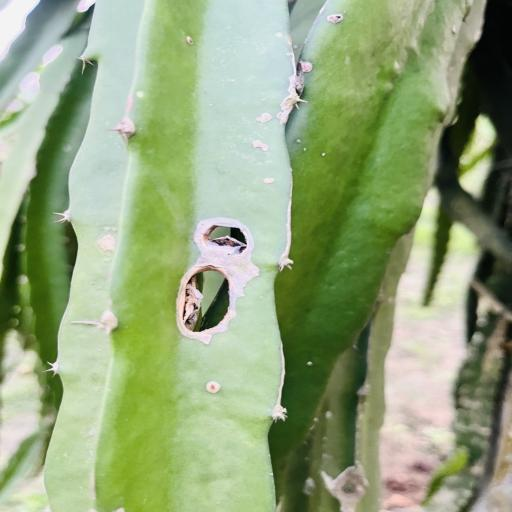stemcanker: (290, 131, 344, 169), (189, 368, 231, 404), (127, 76, 159, 116), (245, 106, 281, 135), (322, 11, 368, 33), (268, 25, 294, 60), (228, 68, 256, 96), (255, 172, 291, 193), (198, 376, 229, 398), (174, 28, 202, 52), (200, 376, 228, 398), (251, 136, 277, 158), (203, 98, 231, 117), (181, 34, 210, 52), (300, 355, 332, 371), (202, 378, 224, 399), (80, 422, 100, 445), (202, 380, 226, 399), (300, 355, 322, 374), (295, 136, 314, 158), (255, 174, 280, 189), (257, 171, 280, 187), (203, 381, 224, 398), (259, 174, 278, 192), (298, 57, 316, 74), (132, 89, 152, 103), (262, 174, 280, 189), (252, 138, 268, 154), (295, 135, 309, 153), (260, 89, 272, 106), (132, 88, 149, 100), (264, 175, 278, 189), (300, 357, 316, 369), (317, 150, 334, 160), (318, 152, 332, 164), (302, 358, 315, 370), (317, 149, 331, 160), (315, 151, 331, 160), (304, 356, 314, 370), (136, 87, 146, 101), (227, 76, 238, 88), (208, 98, 219, 110), (136, 90, 148, 100), (274, 28, 284, 40), (318, 150, 334, 157), (272, 30, 283, 40), (86, 428, 96, 439), (88, 428, 97, 440), (207, 100, 217, 110), (295, 138, 303, 150), (229, 76, 240, 84), (209, 101, 218, 110), (306, 360, 316, 368), (230, 76, 238, 86), (205, 103, 218, 109), (302, 146, 310, 154), (230, 78, 238, 86), (296, 137, 303, 146), (296, 138, 303, 146), (302, 146, 310, 152), (303, 145, 308, 152)
